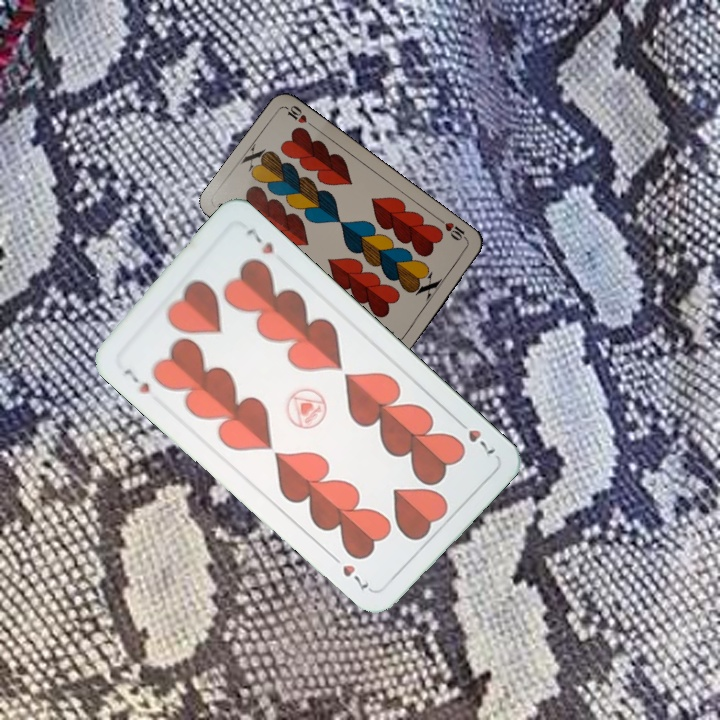H10: (435, 215, 471, 244)
H7: (451, 414, 499, 457), (119, 363, 153, 396)
